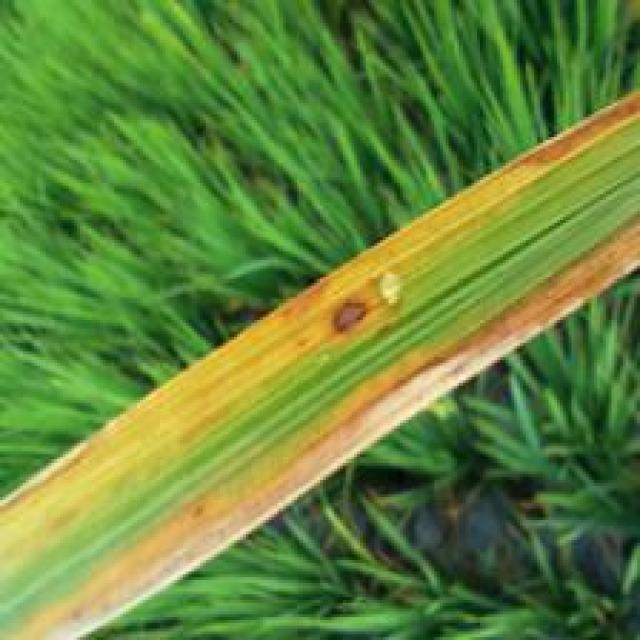Bacterial_Leaf_Blight: (0, 86, 640, 580), (22, 214, 640, 640)
